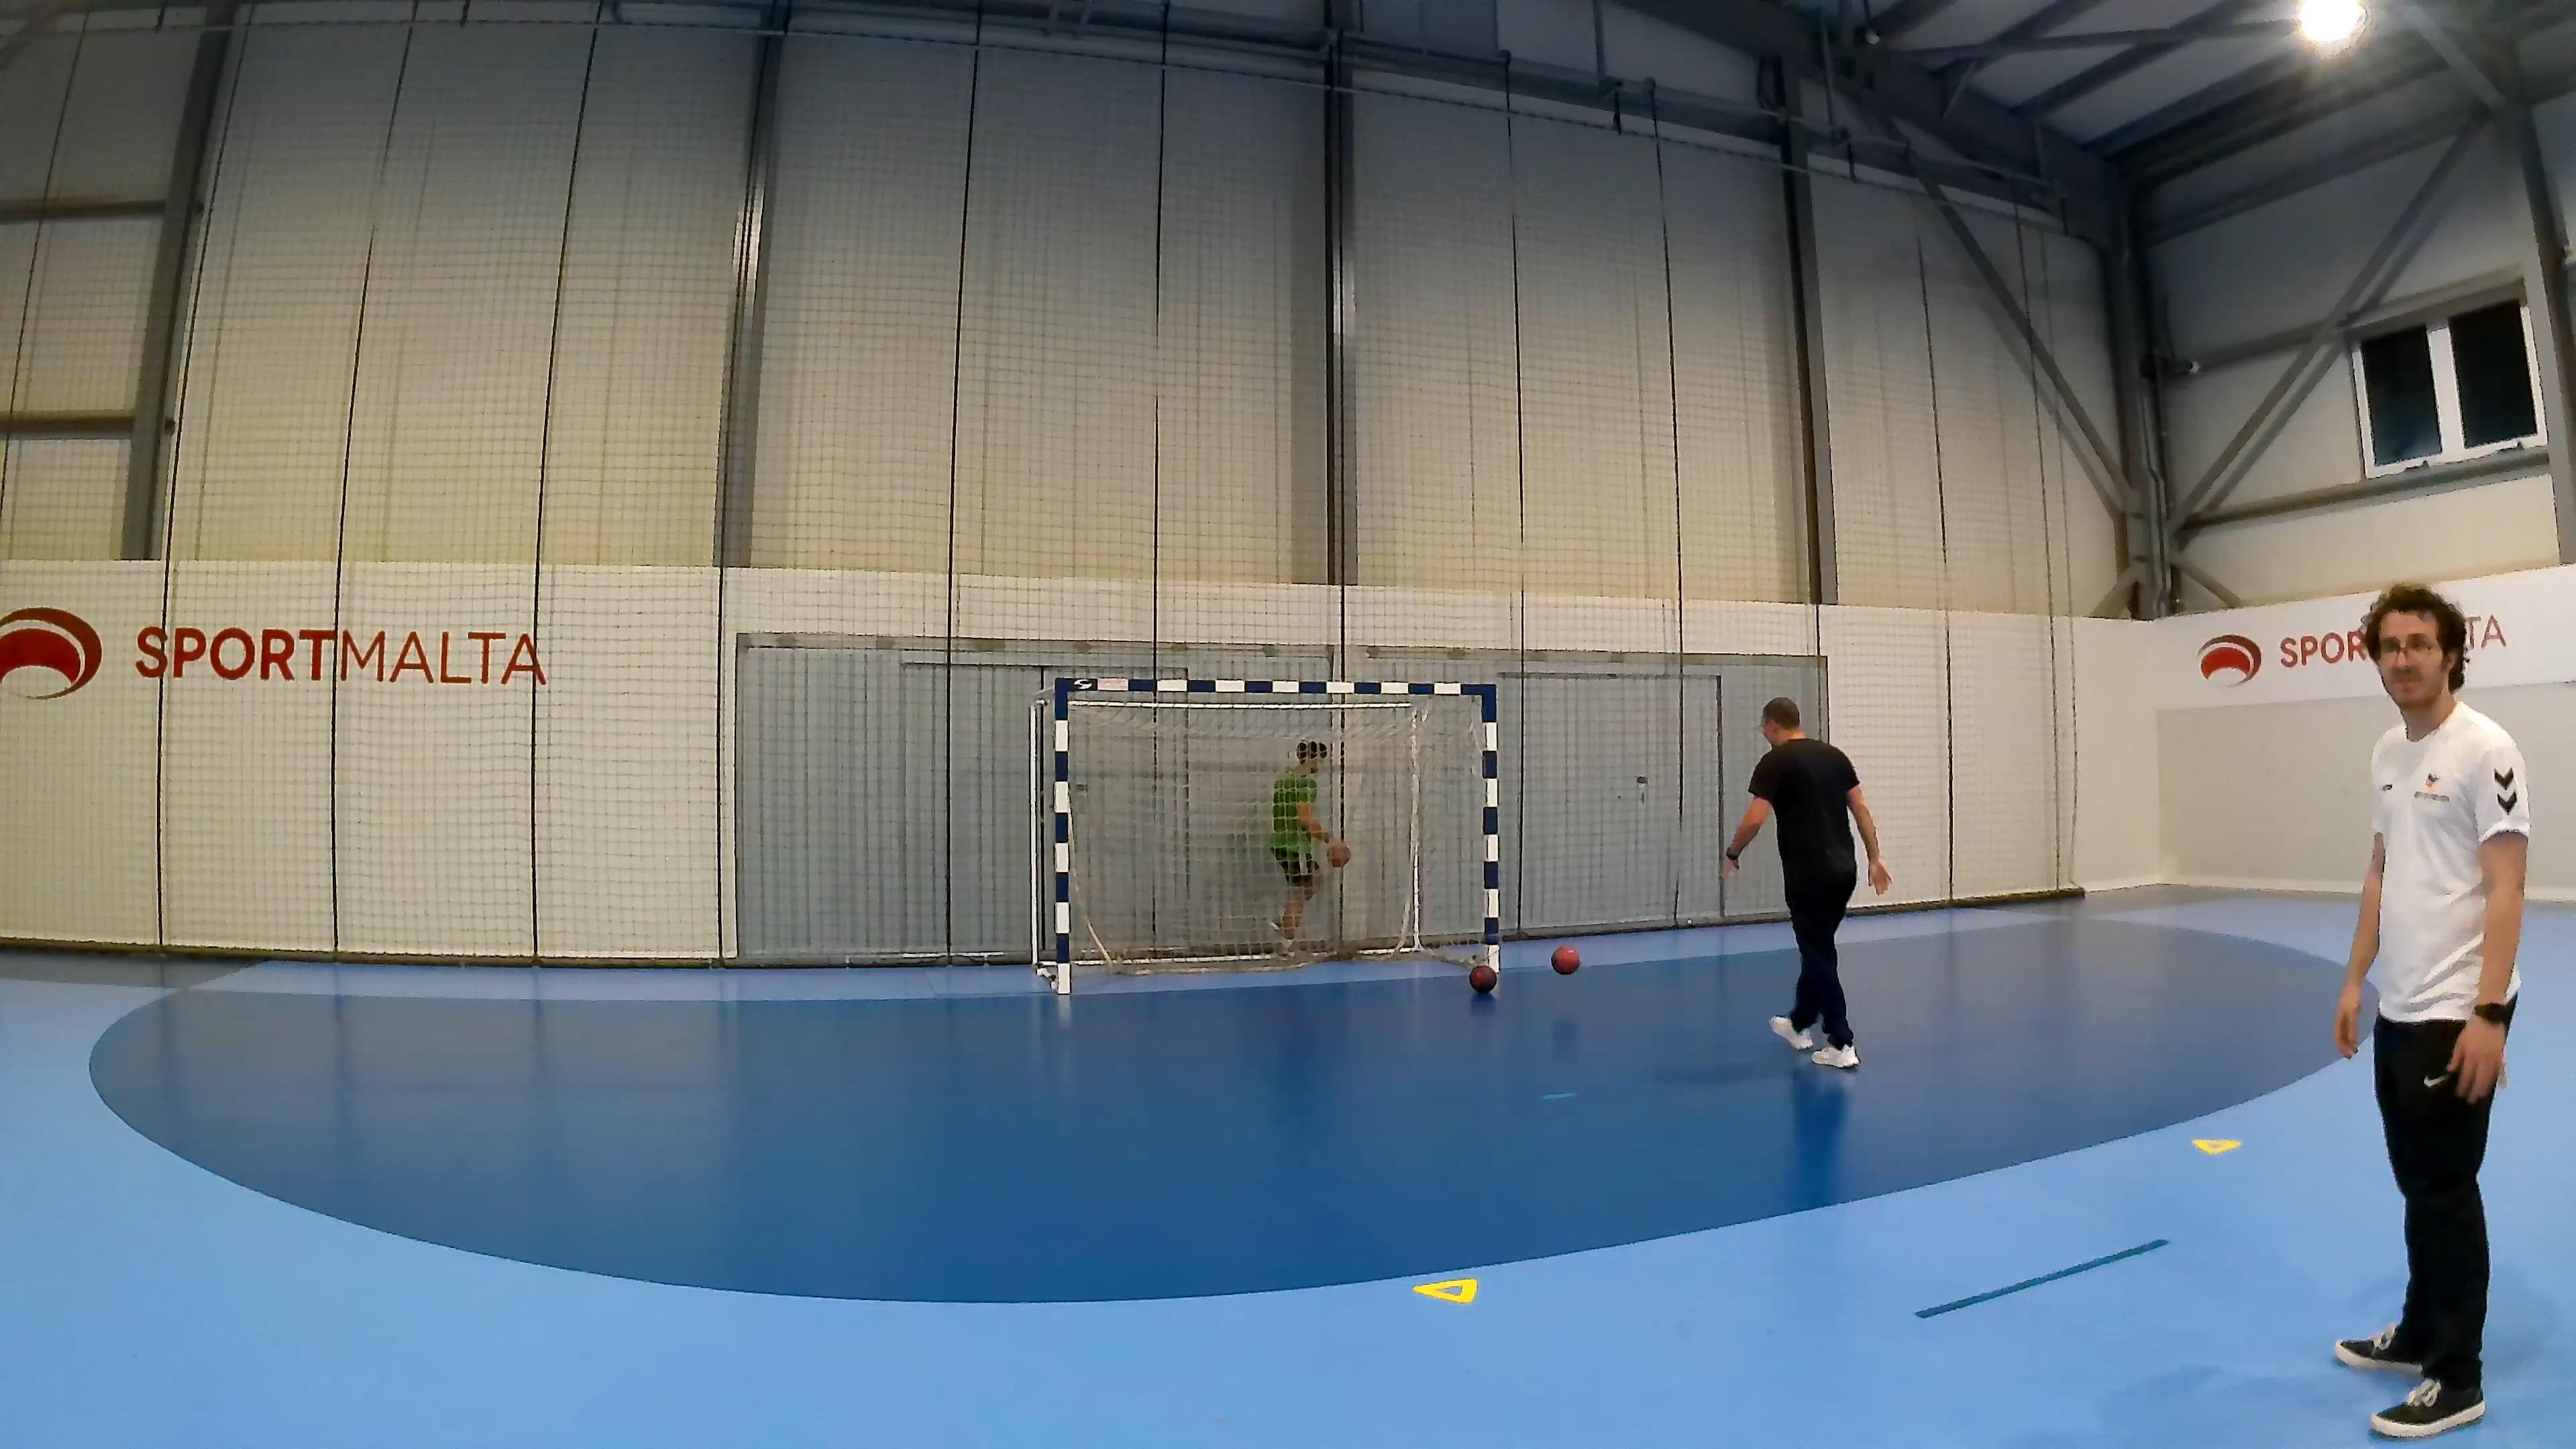handball: (1550, 943, 1580, 975), (1468, 962, 1497, 993), (1323, 839, 1350, 867)
